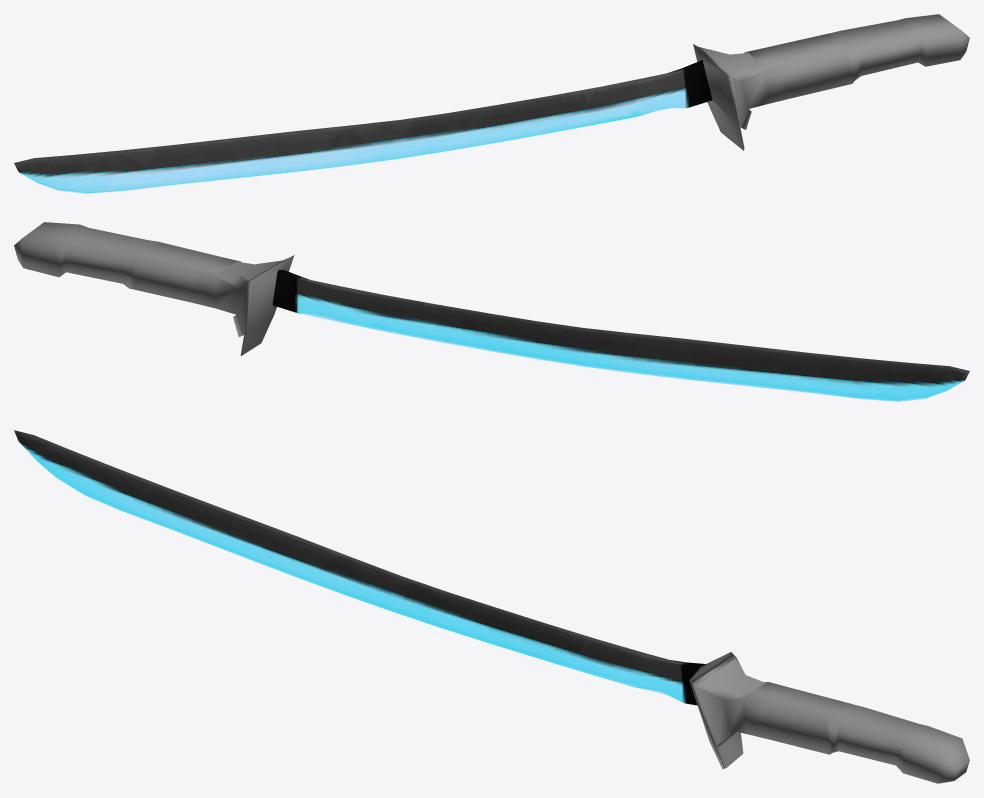
The model's file is katana.glb.
The picture shows the model from 3 angles, top to bottom: view 1: azimuth 30°, elevation 25°; view 2: azimuth 150°, elevation 25°; view 3: azimuth 330°, elevation 25°; orthographic projection.
Parts seen in each view (by area): view 1: ThermalKatana1; view 2: ThermalKatana1; view 3: ThermalKatana1.
Boxes of the visible parts, x1=… form: ThermalKatana1: x1=14, y1=14, x2=969, y2=193; ThermalKatana1: x1=14, y1=222, x2=969, y2=401; ThermalKatana1: x1=14, y1=430, x2=969, y2=783.
Size of the model in its own units: 5.87 by 0.9189 by 0.4046.
1 material, 1 textured.
